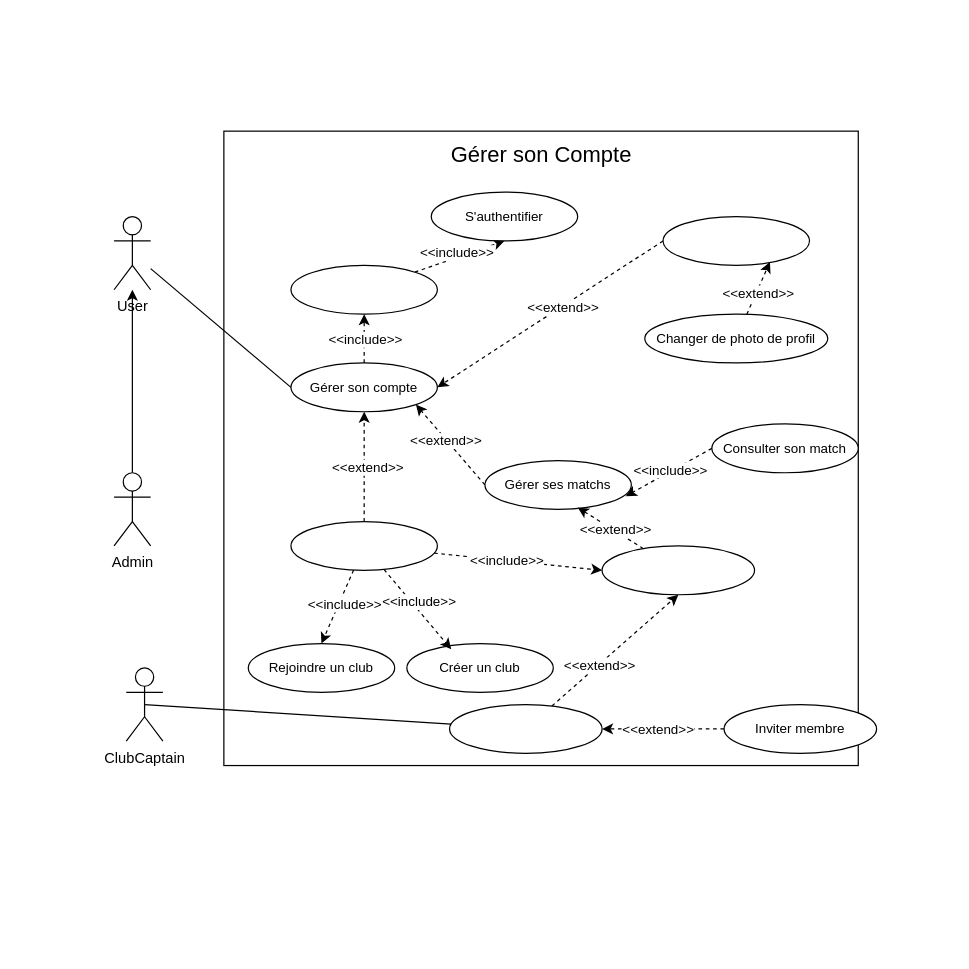
Image size: 969x969. Some labels were removed from this diagram. Here are the shapes that lost their labels. From the top down, the centre of each, then its label:
the point at 735,240: Modifier son compte
the point at 363,289: Consulter son compte
the point at 363,545: Gérer son club
the point at 678,570: Consulter son club
the point at 525,728: Modifier son club
